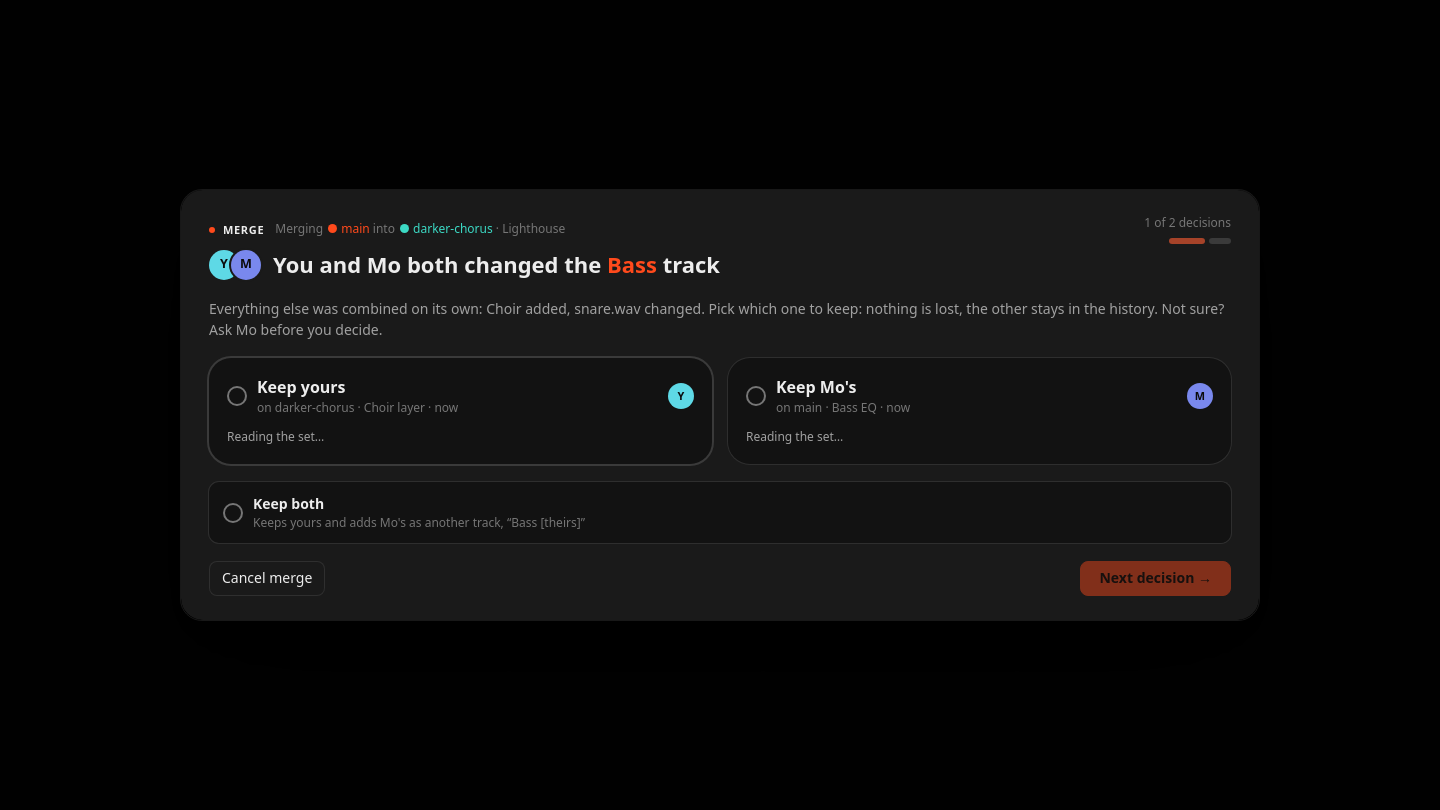
Scenario: MergeDecisions › goes back with the choice kept, and on with Enter
The image size is (1440, 810).
Press Enter
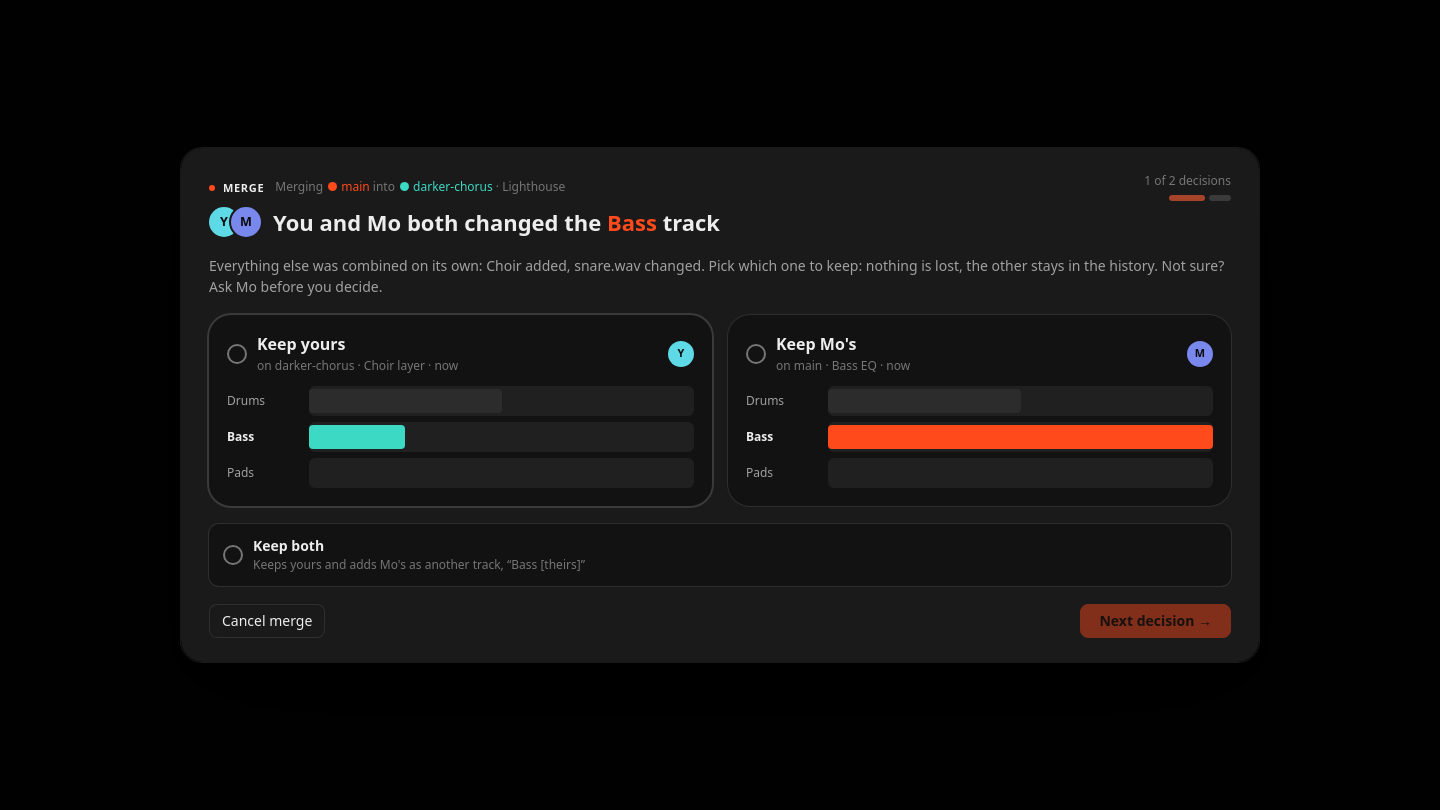
Expected: the text "1 of 2 decisions" is shown, x1=1144 y1=172 x2=1231 y2=189
Click the radio button labelled "Keep yours".
click(460, 411)  # box x1=209 y1=315 x2=712 y2=506
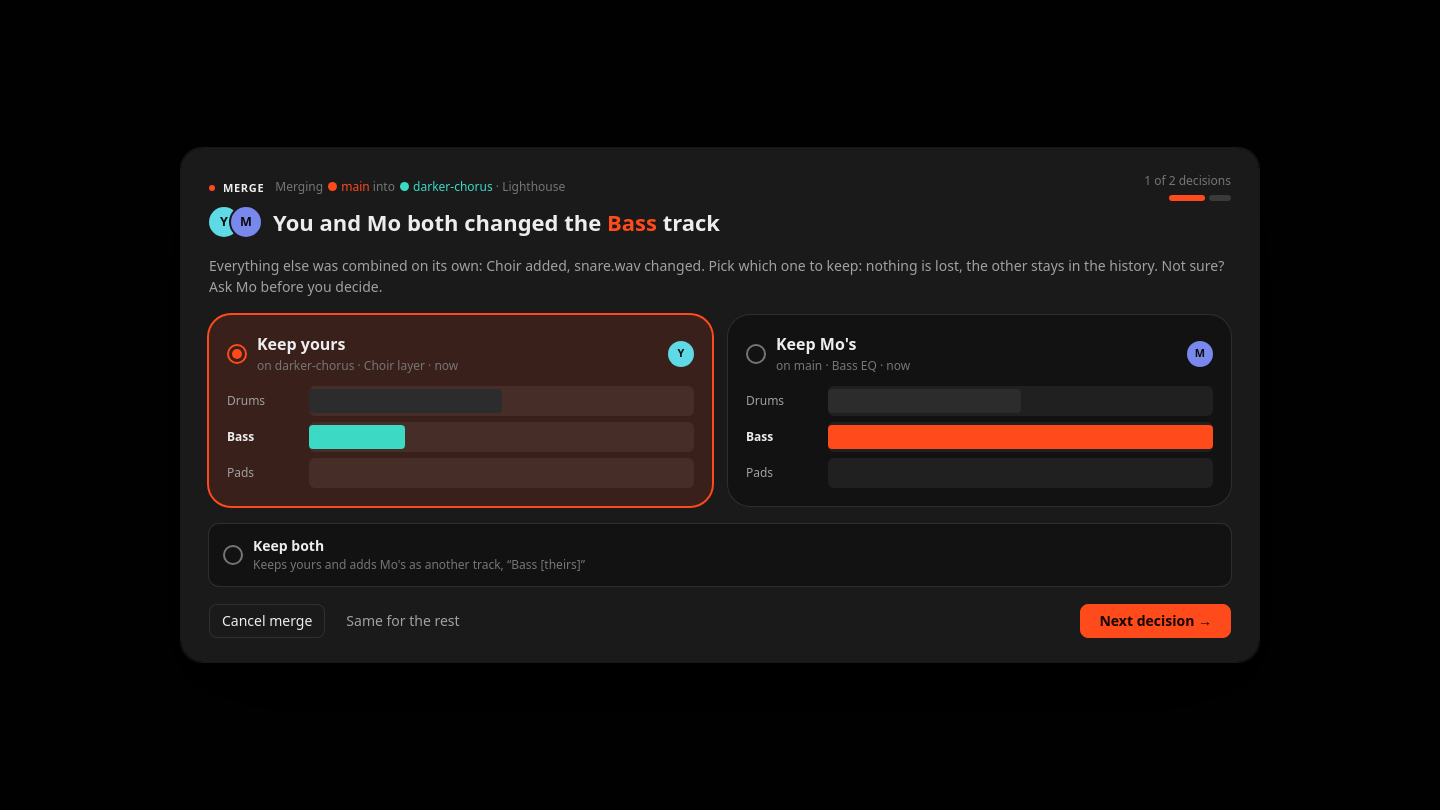
Press Enter
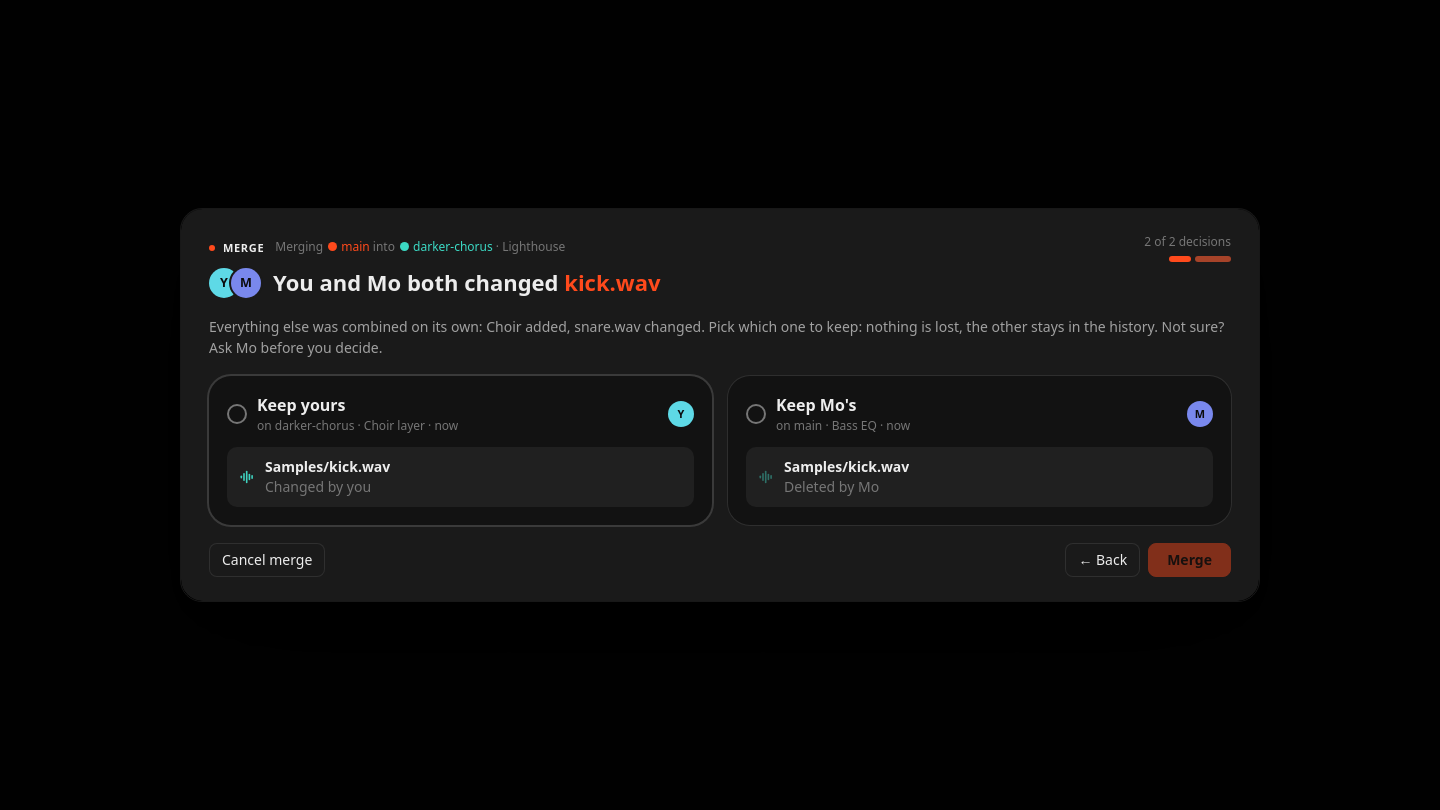
Result: the text "2 of 2 decisions" is shown at x1=1144 y1=233 x2=1231 y2=250
Click the button "← Back".
click(1103, 560)  # box x1=1065 y1=543 x2=1140 y2=577
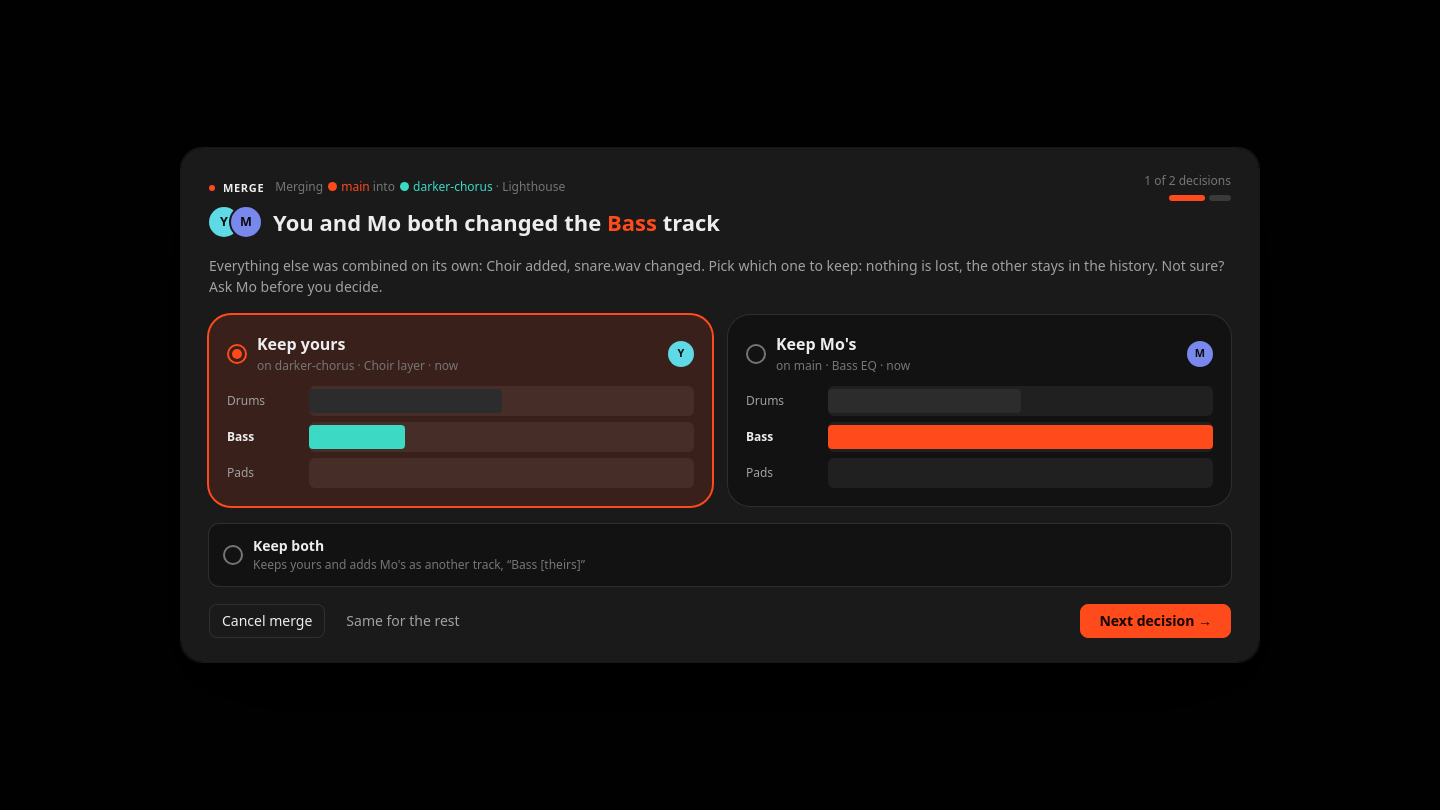
Result: the text "1 of 2 decisions" is shown at x1=1144 y1=172 x2=1231 y2=189
